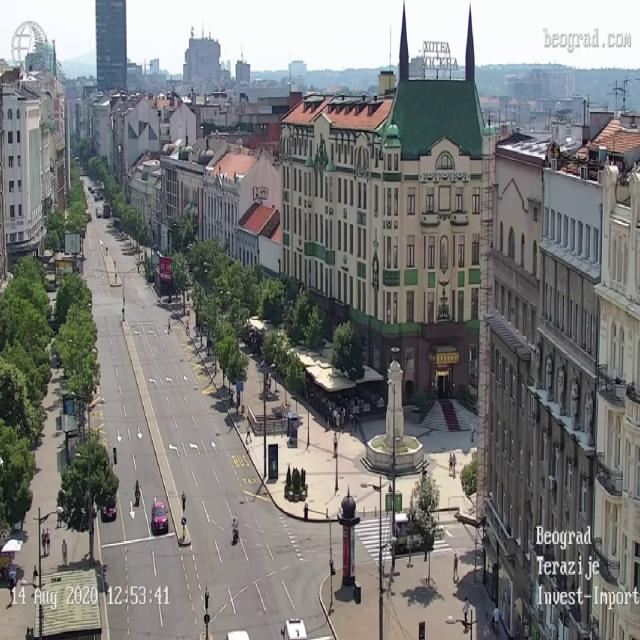bus: (104, 201, 108, 214)
car: (151, 500, 168, 535), (100, 494, 117, 522)
